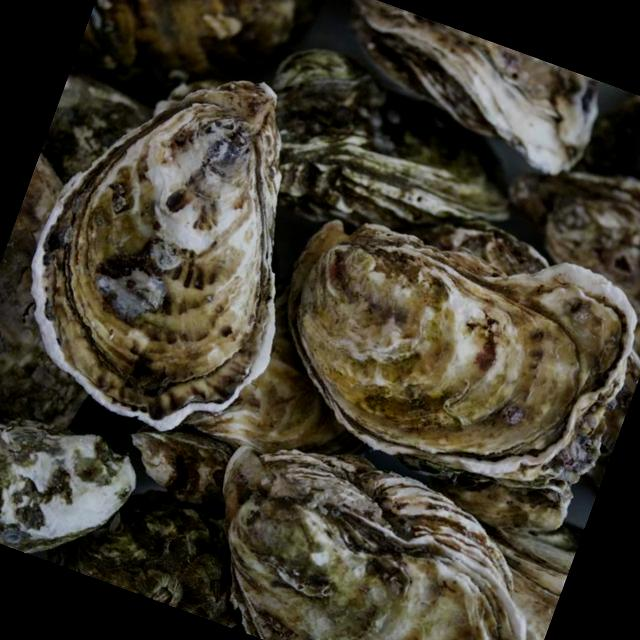Oyster-Closed: (286, 219, 636, 476), (33, 77, 281, 433), (222, 444, 526, 640), (272, 49, 514, 228), (353, 0, 596, 174), (1, 418, 138, 554)
